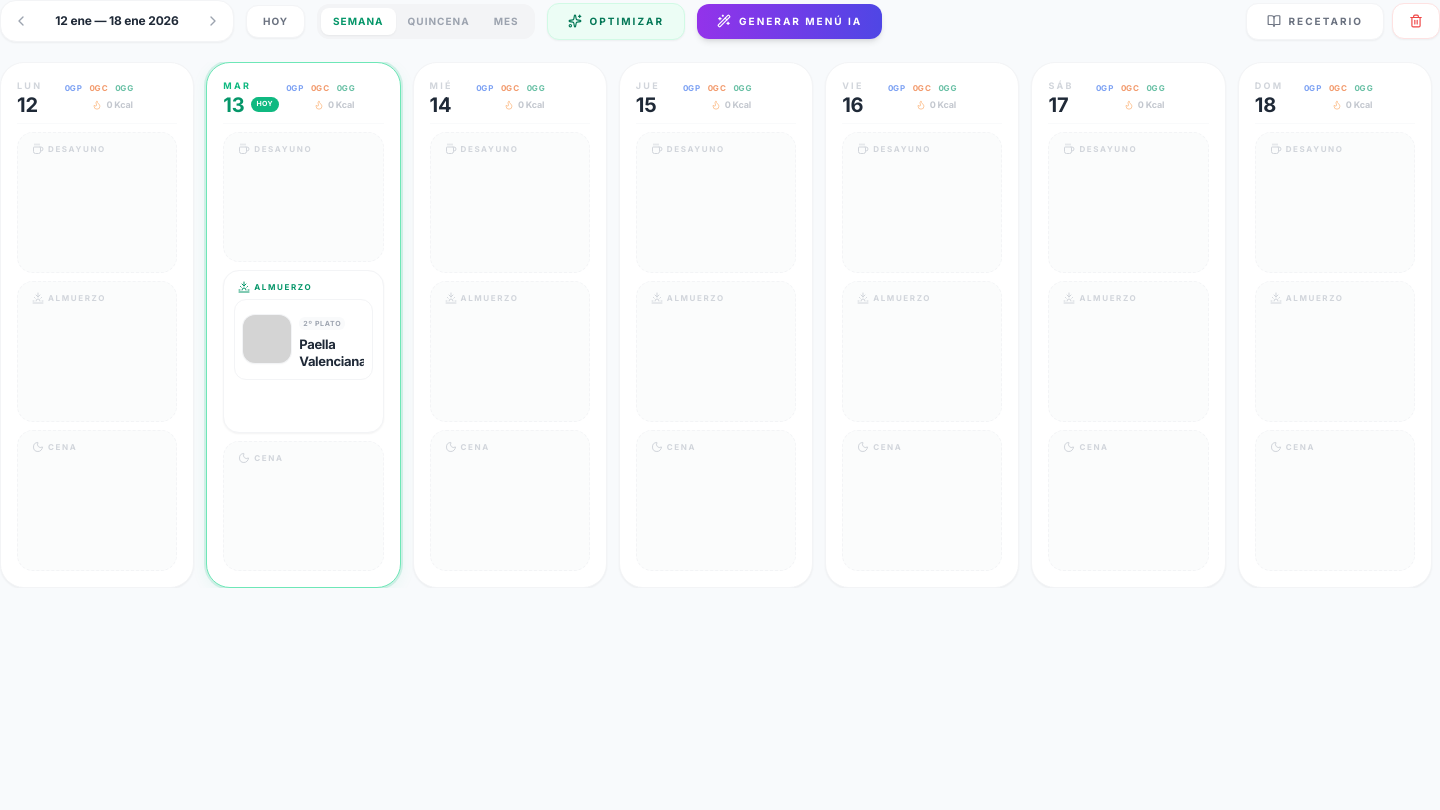
Test: MealPlanner Component › Generación de Menú con IA › debe mostrar opciones de preferencias para IA
Click the button "Generar Menú IA" at (790, 21), box [697,4,882,38]
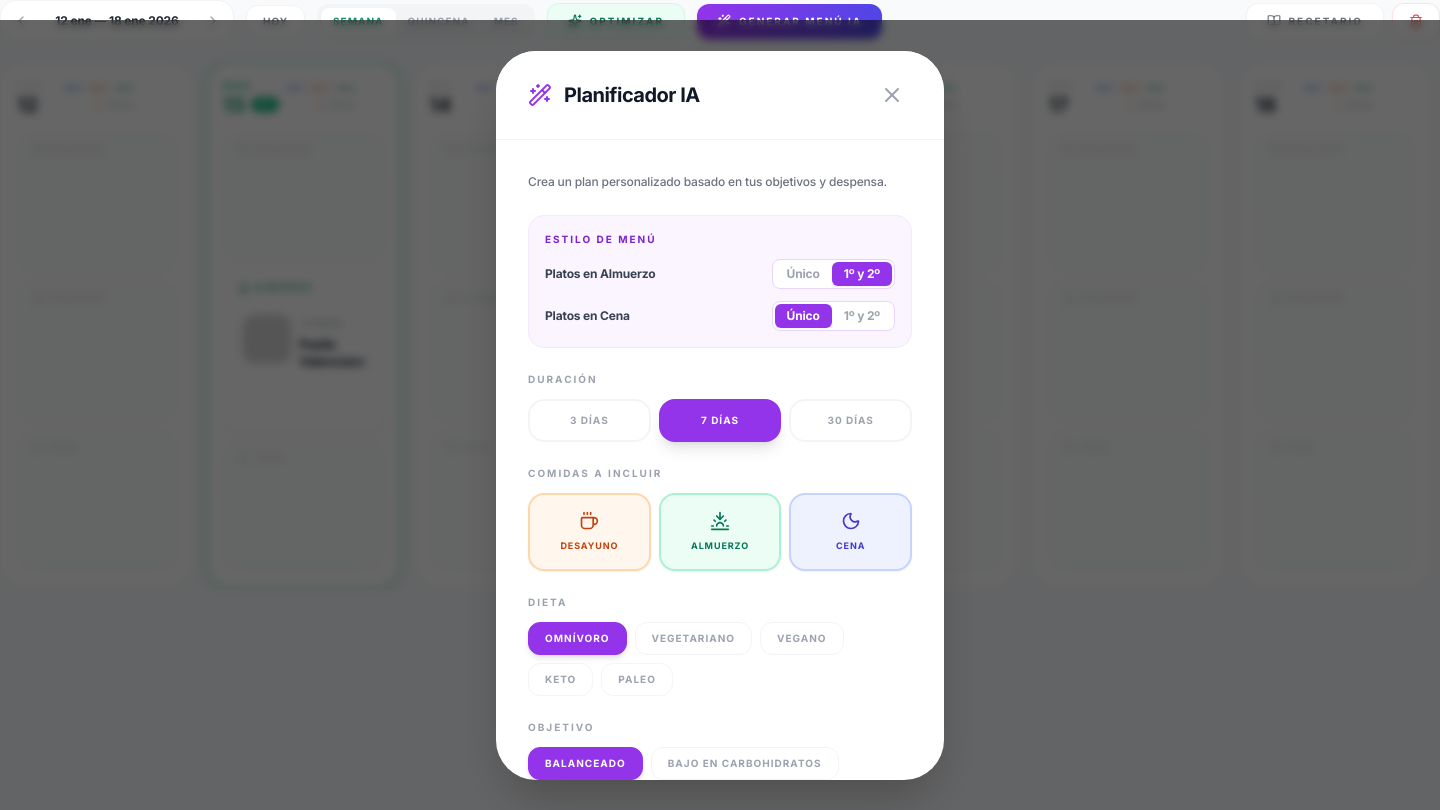
Expected: the text "Dieta" is shown, [528,596,567,608]
